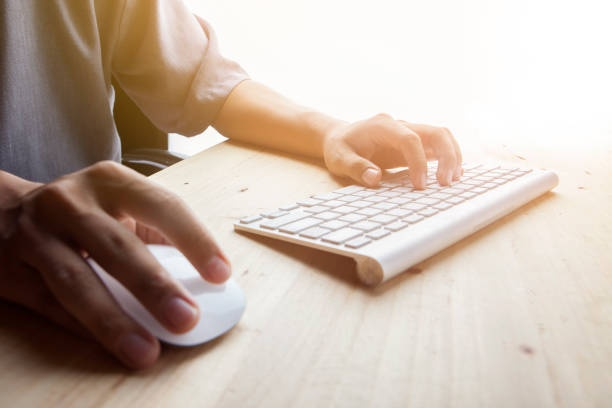keyboard: (232, 152, 563, 274)
mouse: (69, 215, 245, 349)
